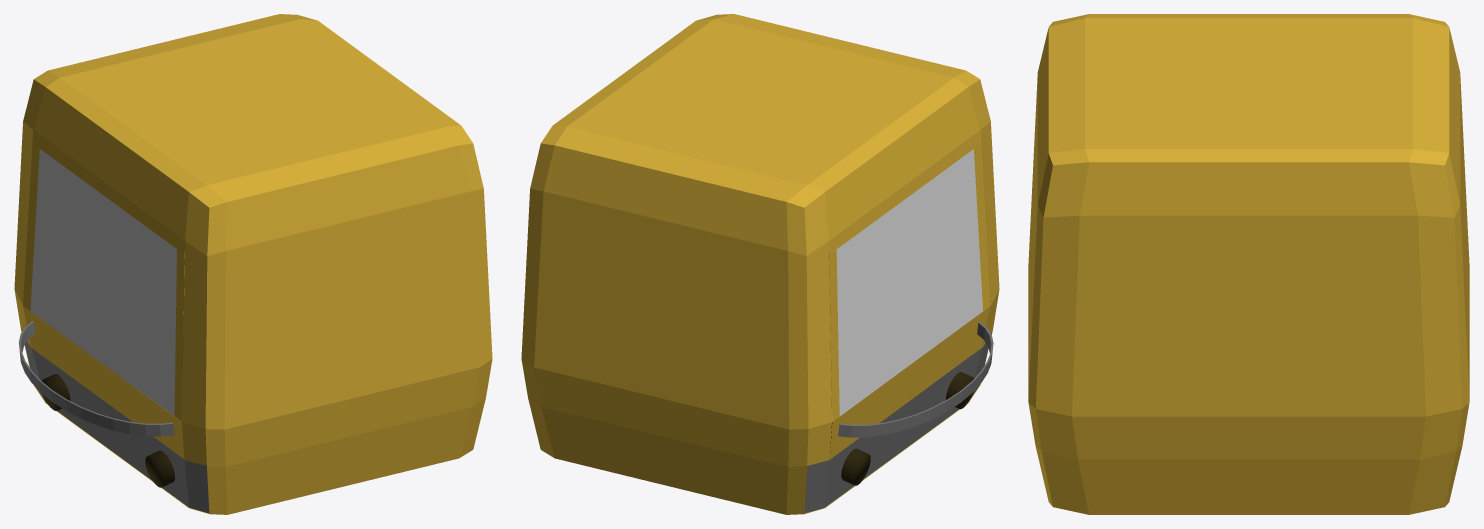
File: Owen_Kun.fbx
3 renders of one model, left to right at view 1: azimuth 30°, elevation 25°; view 2: azimuth 150°, elevation 25°; view 3: azimuth 270°, elevation 25°, orthographic. The views are drawn at different scales.
Visible parts, largest first — view 1: Cube.001, Porte, Cylinder.001; view 2: Cube.001, Porte, Cylinder.001; view 3: Cube.001.
Boxes of the visible parts, x1,y1,x2,y2 form: Cube.001: [14, 14, 492, 514]; Porte: [18, 130, 185, 458]; Cylinder.001: [42, 374, 174, 487]; Cube.001: [521, 14, 999, 514]; Porte: [828, 130, 993, 459]; Cylinder.001: [829, 372, 974, 485]; Cube.001: [1028, 14, 1469, 514].
Size of the model in its own units: 482 by 427 by 468.
